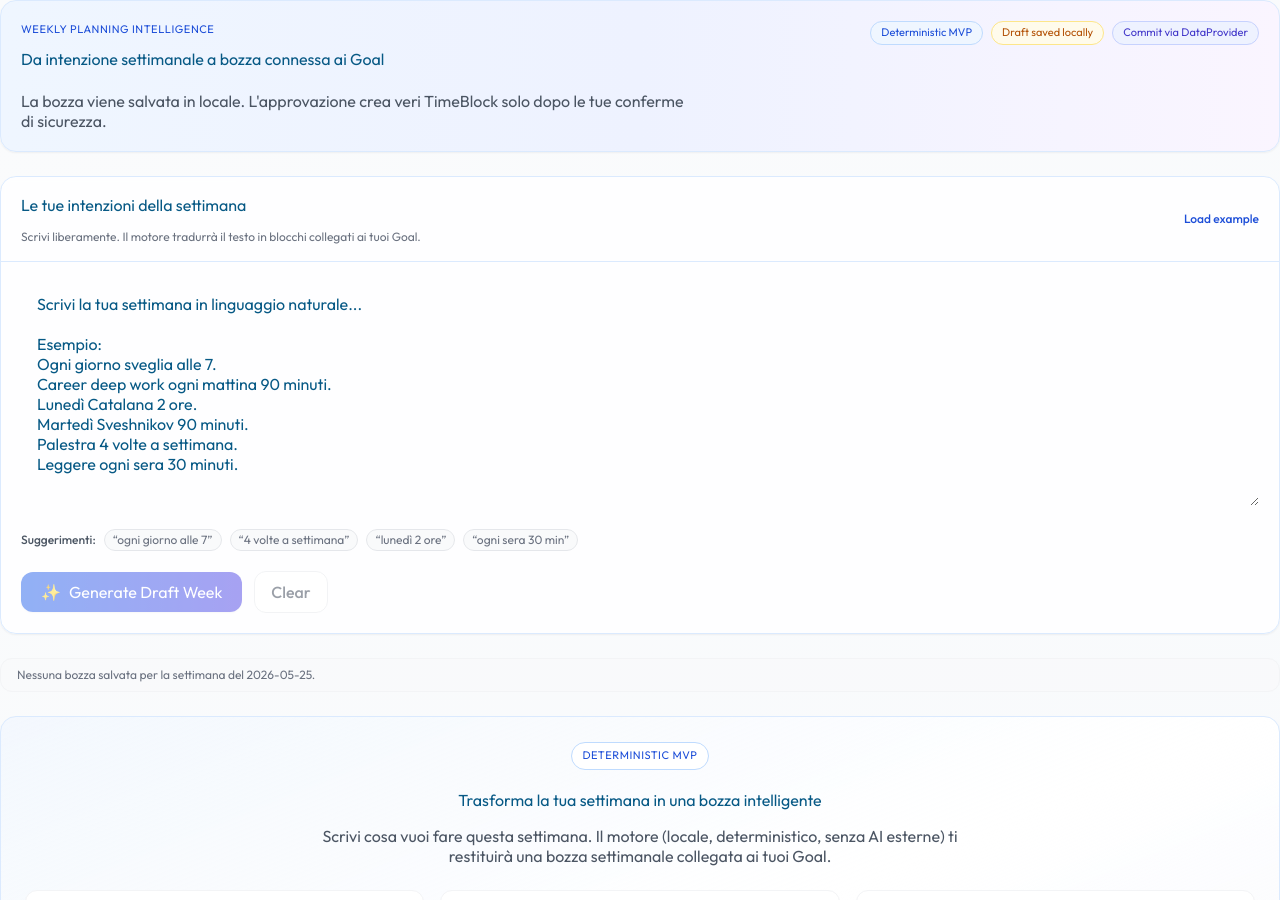
it: WeeklyPlanningView — smoke › Generate renders intents, blocks and a realism score
Click the button "Load example".
click(1221, 219)  # box [1184, 211, 1259, 227]
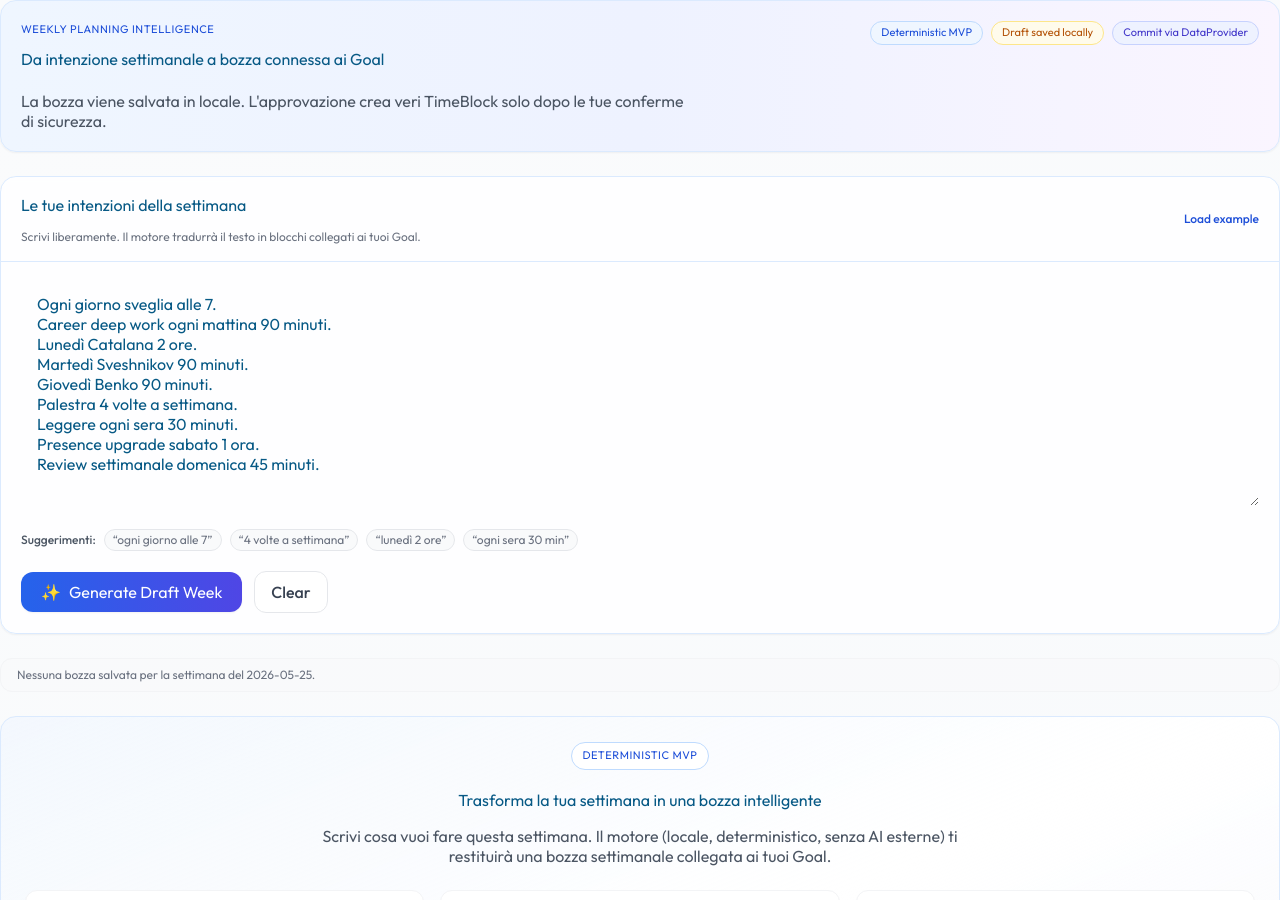
Click the button with test id "weekly-intent-generate".
click(132, 592)  # box [21, 572, 242, 612]
(page scrolled)
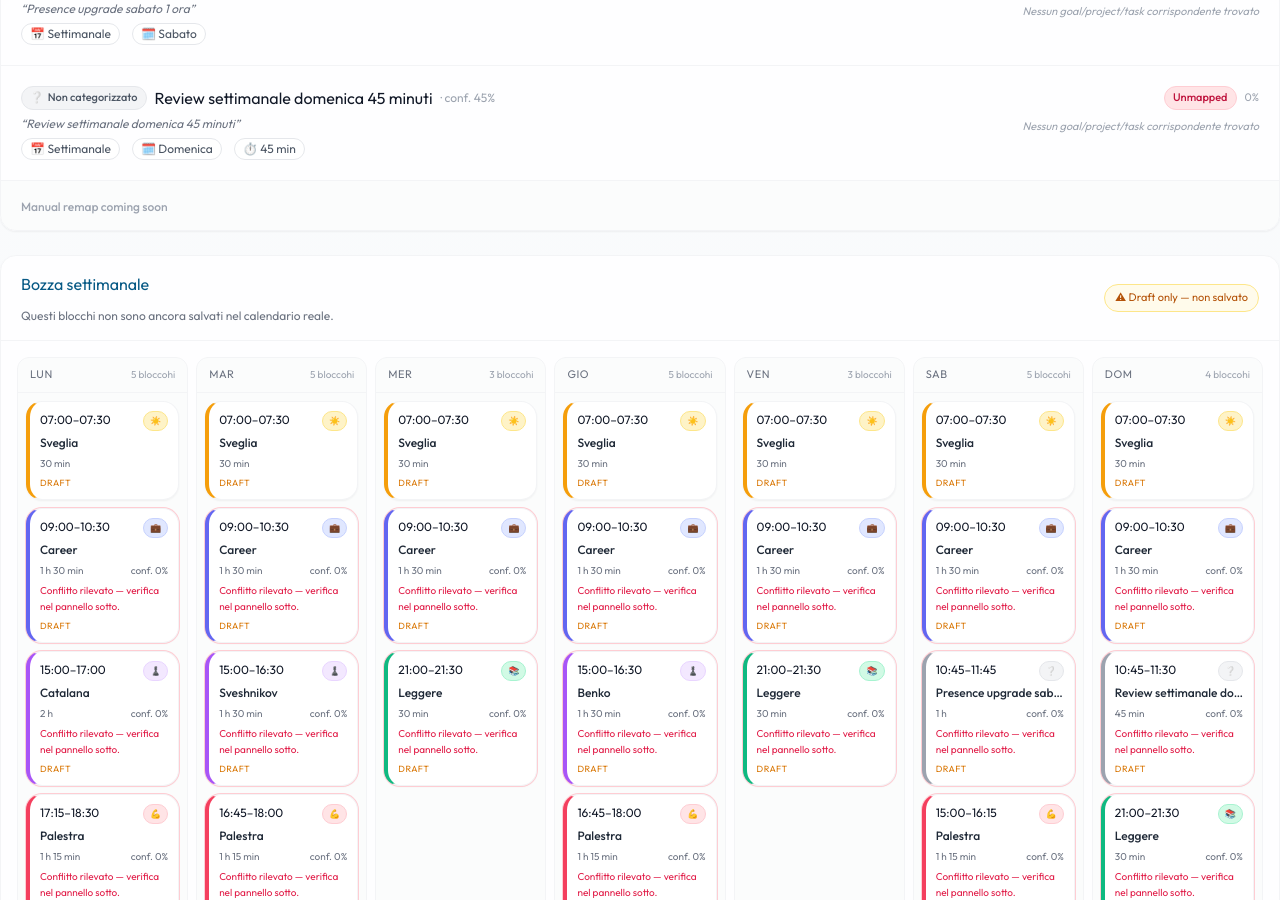
Now the 1st list item with test id "draft-block" is shown, box [26, 401, 179, 500]
